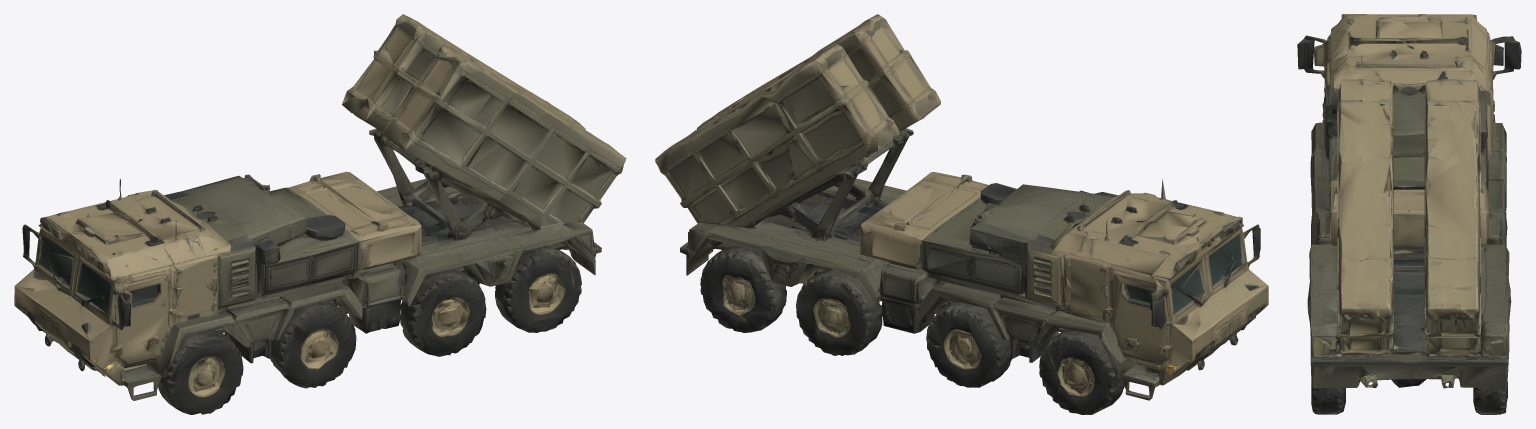
Rendered from coastal-defense-tel-meshy6-web-strategic-v1.glb.
3 views of the same model, side by side, from view 1: azimuth 30°, elevation 25°; view 2: azimuth 150°, elevation 25°; view 3: azimuth 270°, elevation 25° (orthographic). The views are drawn at different scales.
Bounding box in the file's own units: 1.9 × 0.935 × 0.6379.
Materials: 1 (1 with a texture image).
